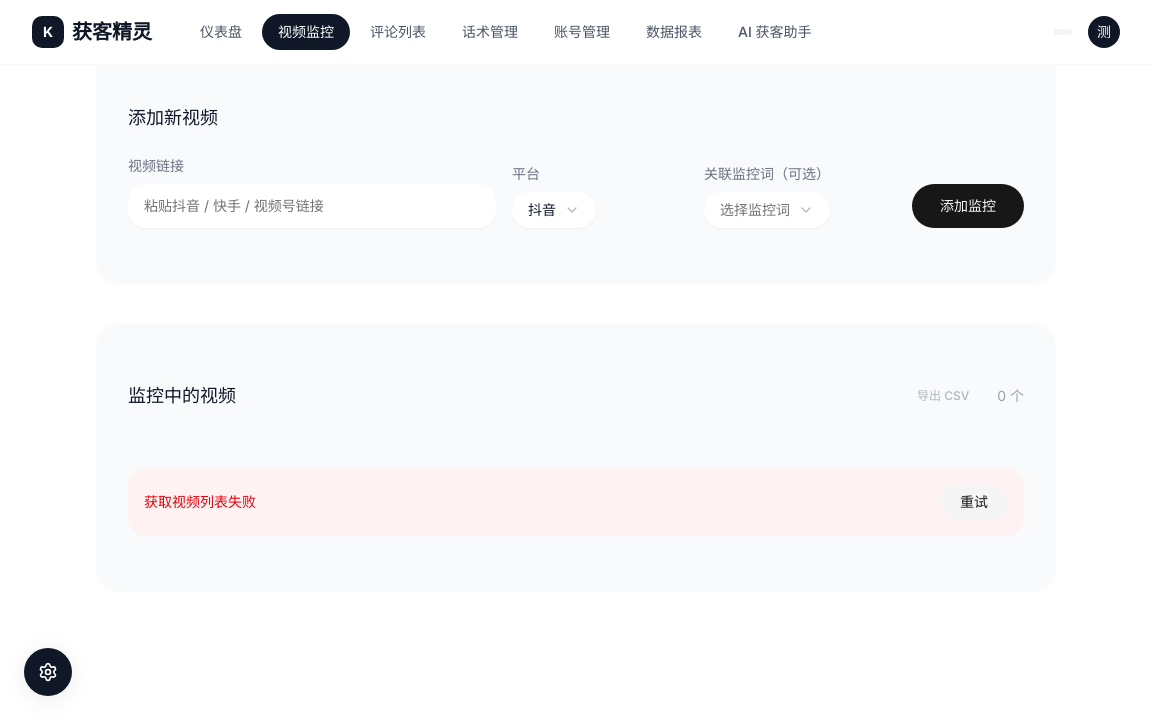
Test: videos/page.tsx 数据加载失败态 › 点击「重试」重新拉取，成功后渲染空态
(page scrolled)
Click the button "重试": [974, 502] box [940, 484, 1008, 520]
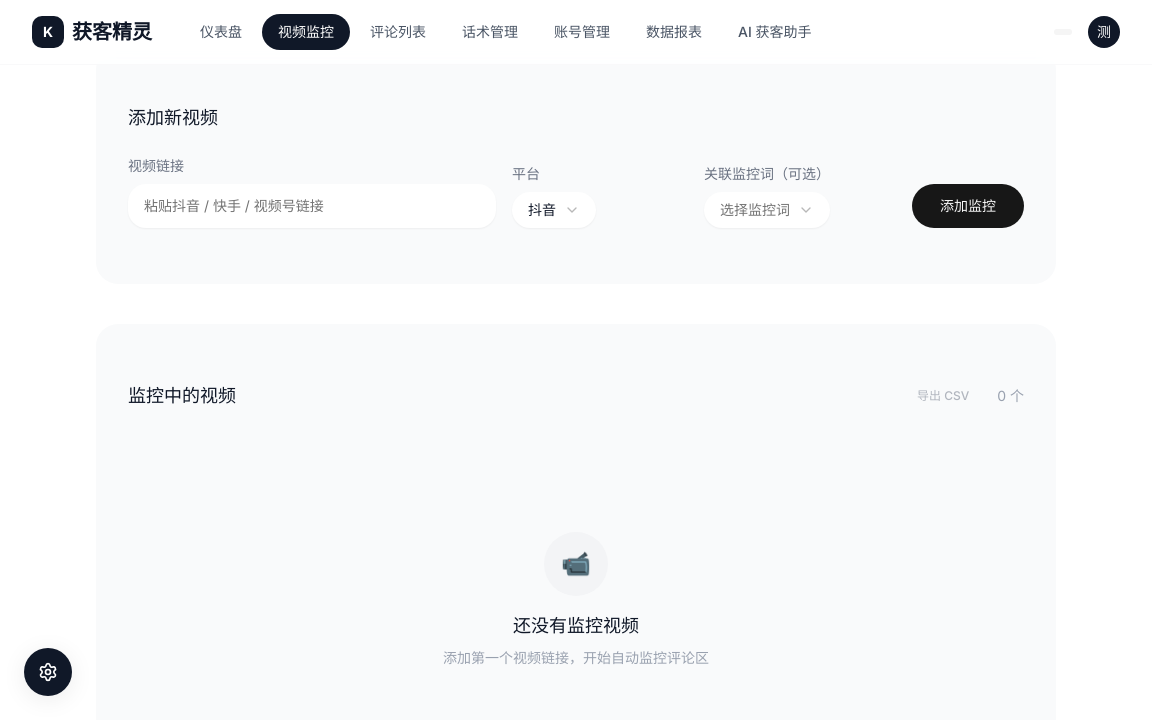
Now the text "获取视频列表失败" is gone
Now the text "还没有监控视频" is shown, box [513, 615, 639, 636]
